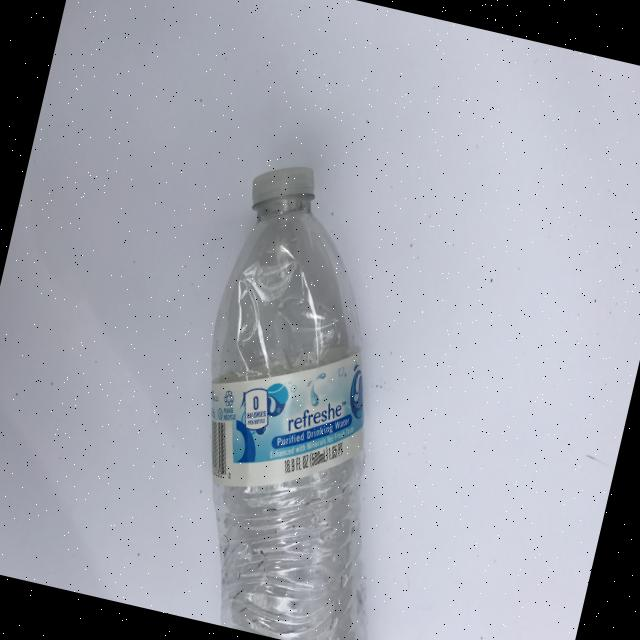plastic: (147, 153, 473, 640)
